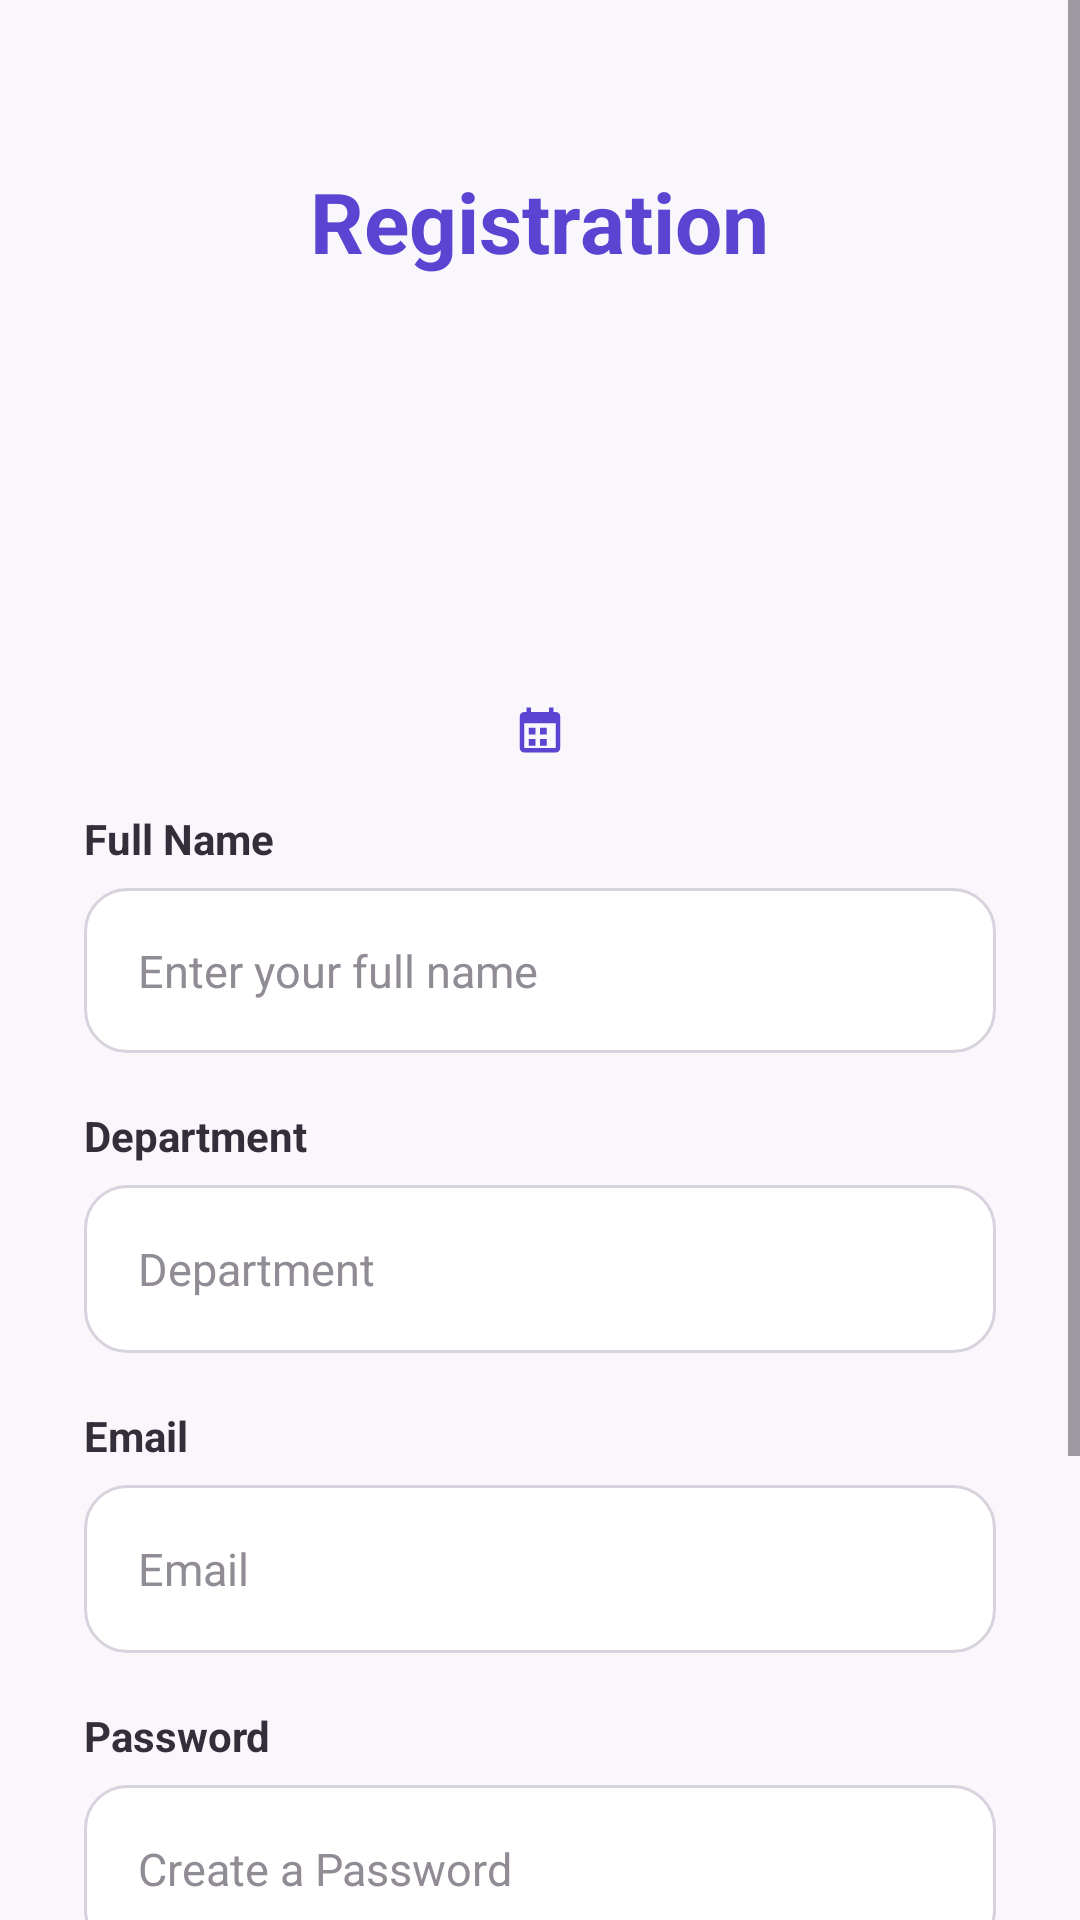

Where icons sit on this 1080px x 1920px app screen, as (x1, y1, x2, y2):
Calendar: (519, 707, 561, 753)
